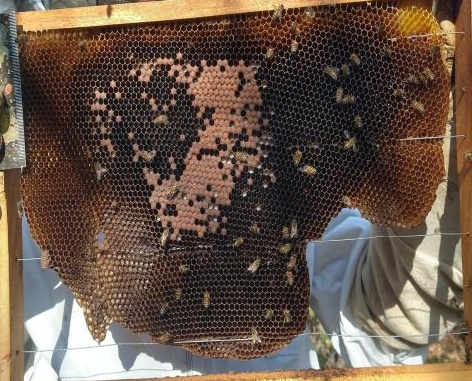cria: (73, 41, 334, 249)
